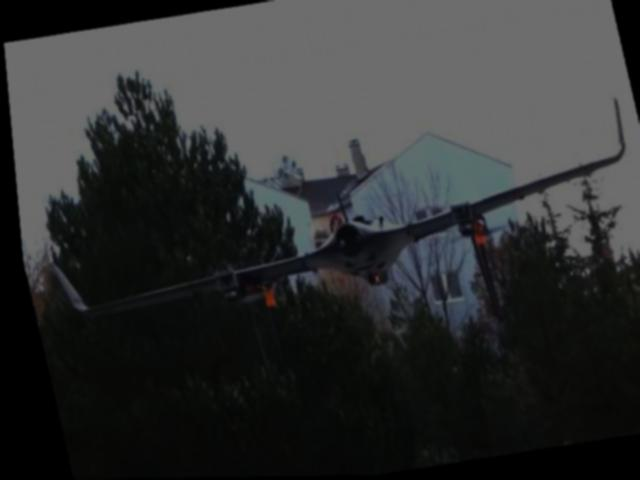iha: (21, 94, 640, 330)
